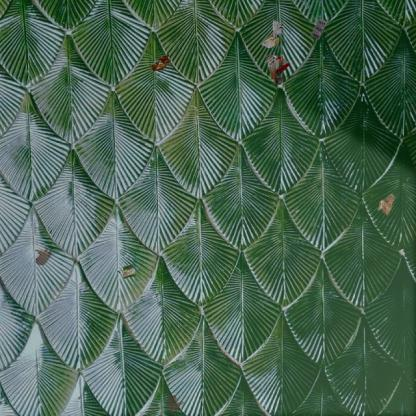dirty: (262, 52, 292, 86), (260, 19, 282, 48), (149, 50, 173, 74), (376, 193, 396, 217), (115, 262, 138, 281), (310, 18, 327, 40)
liquid: (34, 247, 53, 267), (166, 394, 184, 415)
